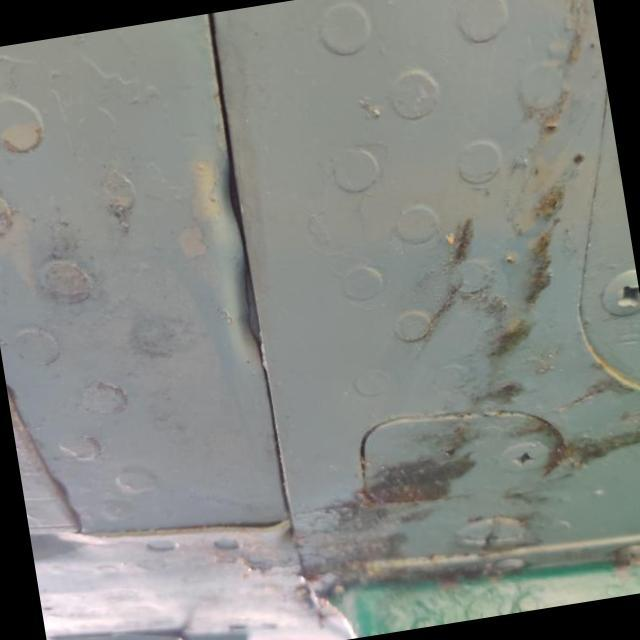Dent: (150, 128, 318, 398)
